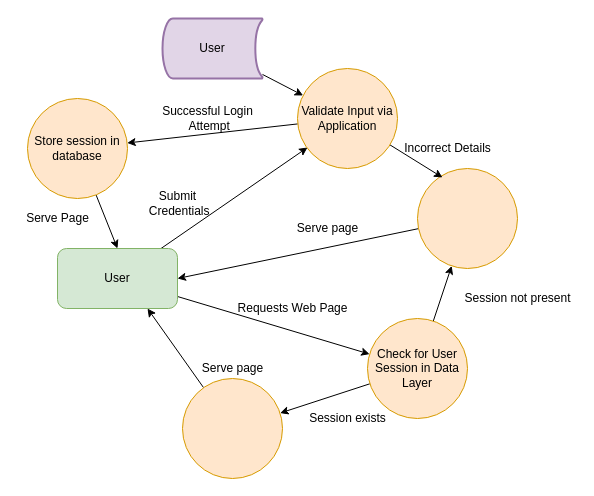
The diagram is 594 pixels wide and 496 high, and some of its shapes have lost their labels. Here are the shapes that lost their labels. From the top down, the centre of each, then its label:
At (467,218): "Render Login Screen".
At (232,428): "Render Landing Page".
